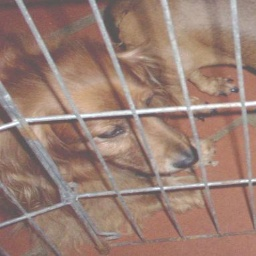dog: (0, 1, 256, 232)
